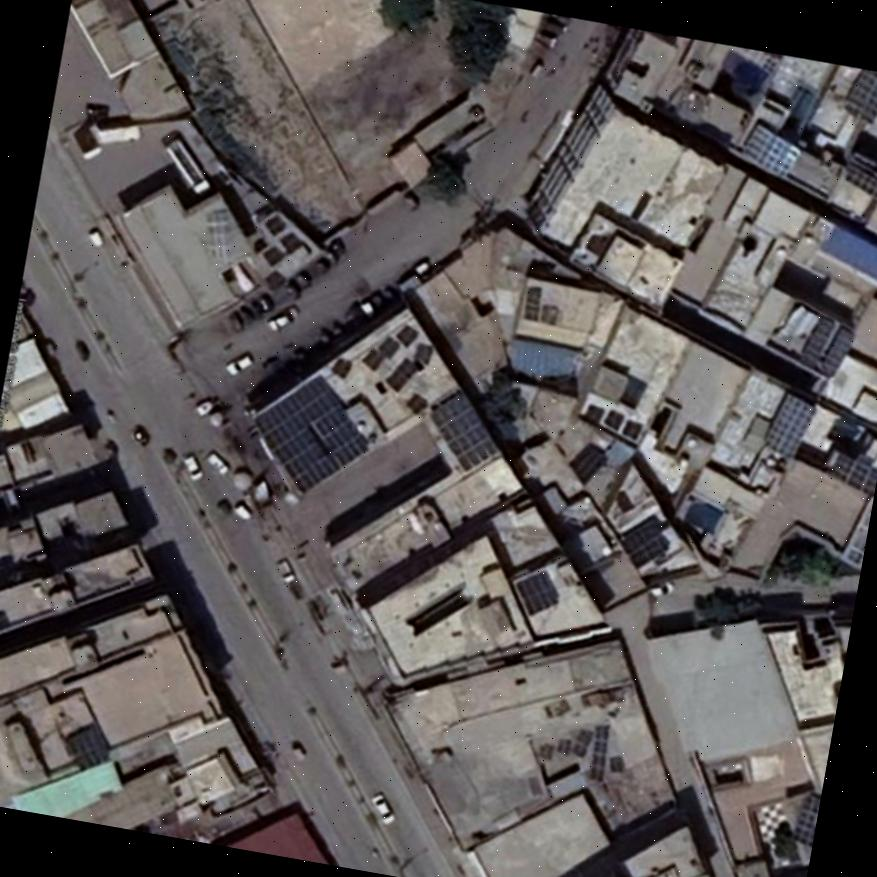Solarpanel: (253, 375, 372, 495), (431, 391, 496, 471), (763, 393, 817, 458), (742, 123, 801, 179), (803, 316, 852, 380), (831, 445, 877, 494), (619, 520, 664, 568), (840, 68, 877, 122), (520, 571, 558, 614), (67, 726, 105, 768), (793, 794, 820, 843), (361, 335, 398, 368), (591, 725, 610, 780), (385, 360, 416, 391), (573, 726, 593, 755), (524, 287, 541, 317), (408, 394, 427, 413), (398, 326, 416, 345), (624, 420, 642, 439), (331, 360, 348, 379), (606, 410, 623, 427), (585, 405, 601, 420)
